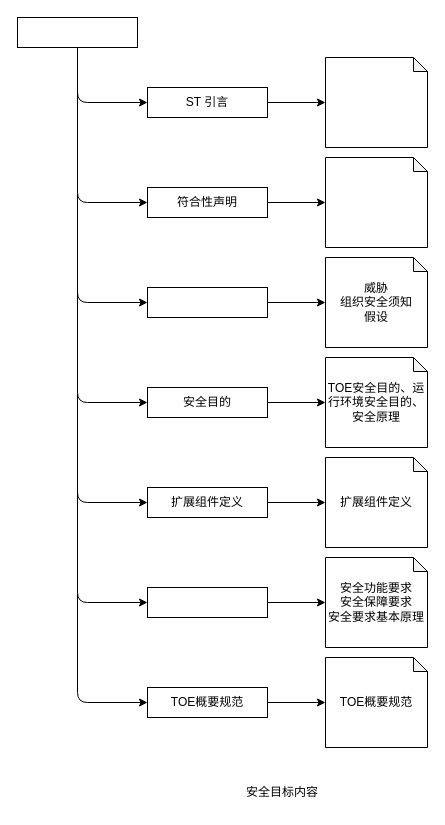
The diagram is 445 pixels wide and 825 high, and some of its shapes have lost their labels. The box of each missing label's shape, as (x1, y1, x2, y2) in pixels:
CC符合性声明 PP声明 包声明 符合性基本原理: (324, 156, 428, 248)
ST参照号 TOE参照号 TOE概述 TOE描述: (324, 56, 428, 148)
安全目标（ST）: (16, 16, 138, 48)
安全要求: (146, 586, 268, 618)
安全问题定义: (146, 286, 268, 318)
